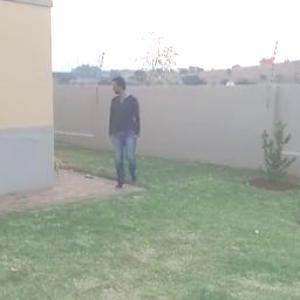follow: (107, 72, 145, 189)
